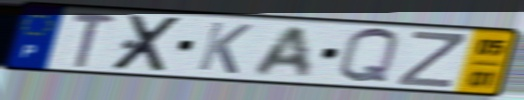A: (249, 25, 315, 80)
K: (193, 20, 255, 77)
Q: (335, 26, 402, 86)
T: (69, 10, 120, 70)
X: (106, 14, 187, 74)
Z: (394, 29, 468, 90)
